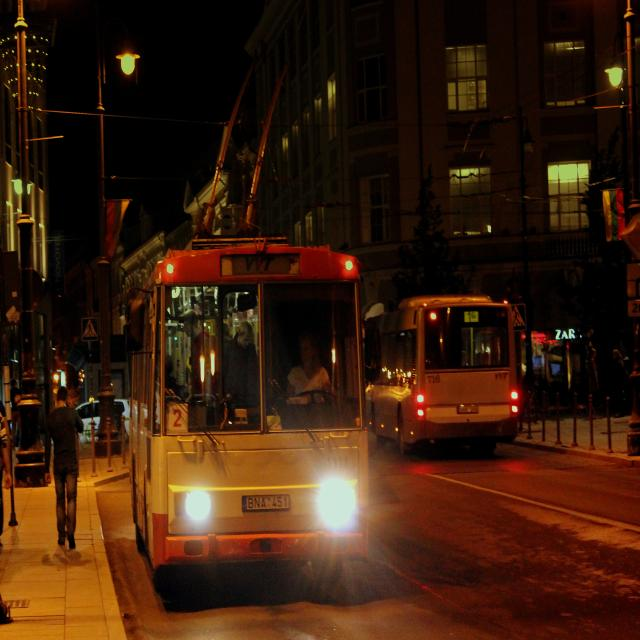Bus: (123, 223, 382, 599), (350, 218, 542, 526)
People: (47, 376, 88, 566), (280, 330, 343, 428), (0, 379, 27, 602), (229, 313, 269, 423), (607, 347, 636, 432), (573, 326, 596, 409)
car: (69, 378, 131, 451)
